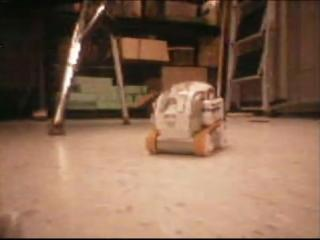cozmo: (144, 79, 227, 156)
